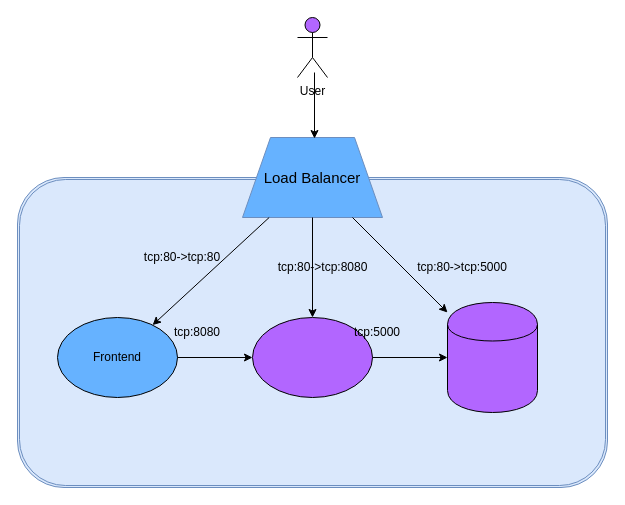
This 625x505 diagram has some shape labels left out. The shapes that lost their labels are listed below. From the top down, each one's centre as x and y in pixels, then its label:
the point at 312,357: Backend
the point at 492,357: Database
